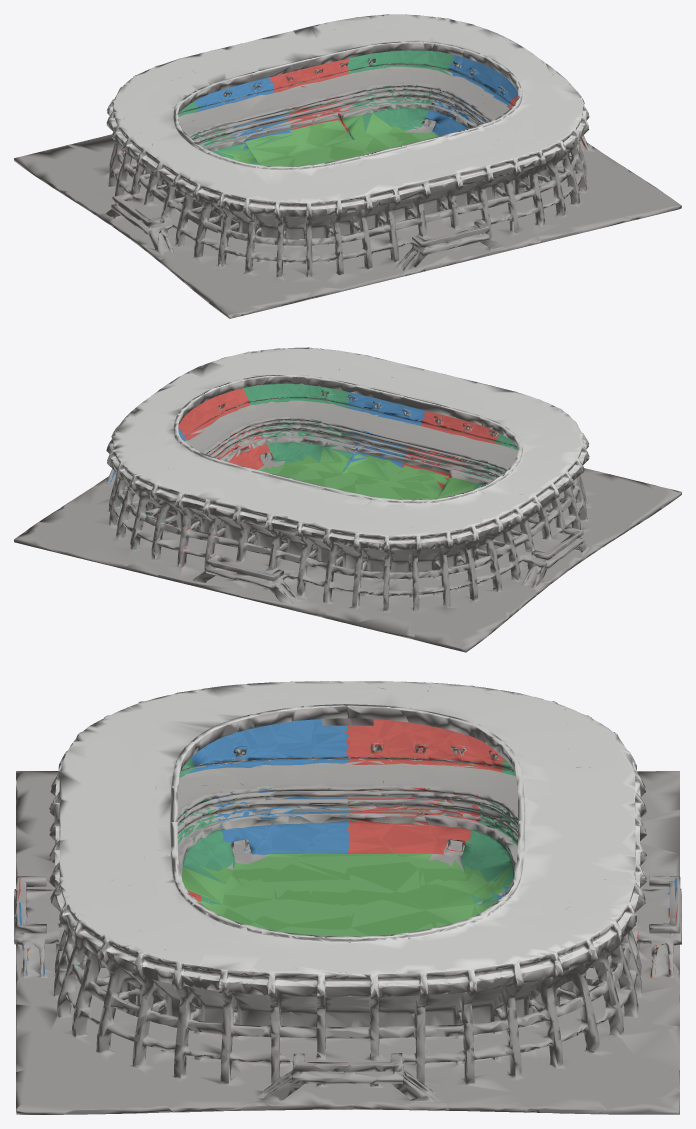
The model's file is sf-azteca.glb.
3 renders of one model, top to bottom at view 1: azimuth 30°, elevation 25°; view 2: azimuth 150°, elevation 25°; view 3: azimuth 270°, elevation 25°, orthographic. The views are drawn at different scales.
Visible parts, largest first — view 1: Object_8, Object_4, Object_6, Object_5, Object_9, Object_11, Object_7, Object_10, Object_14, Object_13, Object_12, Object_15; view 2: Object_12, Object_4, Object_5, Object_11, Object_14, Object_6, Object_7, Object_10, Object_8, Object_13, Object_15, Object_9; view 3: Object_4, Object_13, Object_8, Object_7, Object_10, Object_5, Object_14, Object_6, Object_11, Object_12, Object_9, Object_15.
Boxes of the visible parts, x1,y1,x2,y2 form: Object_8: (112, 26, 681, 318); Object_4: (95, 14, 585, 290); Object_6: (115, 14, 589, 275); Object_5: (14, 17, 590, 254); Object_9: (209, 126, 638, 303); Object_11: (52, 16, 465, 196); Object_7: (110, 23, 662, 271); Object_10: (66, 21, 622, 270); Object_14: (146, 82, 628, 281); Object_13: (73, 17, 596, 248); Object_12: (21, 16, 387, 186); Object_15: (196, 104, 645, 285); Object_12: (14, 467, 501, 652); Object_4: (112, 349, 615, 609); Object_5: (81, 357, 589, 652); Object_11: (33, 438, 513, 624); Object_14: (187, 357, 629, 551); Object_6: (111, 356, 584, 609); Object_7: (59, 351, 587, 595); Object_10: (54, 360, 536, 614); Object_8: (107, 348, 681, 594); Object_13: (101, 381, 582, 616); Object_15: (221, 351, 635, 522); Object_9: (267, 347, 661, 509); Object_4: (14, 682, 679, 1110); Object_13: (236, 681, 570, 1110); Object_8: (14, 681, 673, 1114); Object_7: (16, 699, 679, 1114); Object_10: (113, 687, 595, 1113); Object_5: (16, 681, 680, 1110); Object_14: (117, 686, 295, 1112); Object_6: (14, 681, 673, 1097); Object_11: (505, 696, 679, 1114); Object_12: (558, 721, 681, 1114); Object_9: (65, 708, 194, 1107); Object_15: (119, 694, 197, 1108).
Size of the model in its own units: 1.9 by 0.3229 by 1.58.
